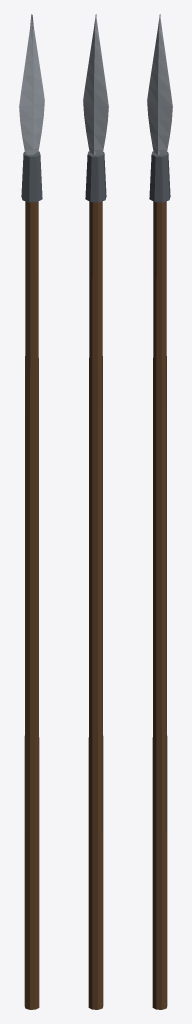
Rendered from g-spear.glb.
The picture shows the model from 3 angles, left to right: view 1: azimuth 30°, elevation 25°; view 2: azimuth 150°, elevation 25°; view 3: azimuth 330°, elevation 25°; orthographic projection.
Visible parts, largest first — view 1: g-spear; view 2: g-spear; view 3: g-spear.
Boxes of the visible parts, x1,y1,x2,y2 form: g-spear: (19, 14, 44, 1009); g-spear: (83, 14, 108, 1009); g-spear: (147, 14, 172, 1009).
Size of the model in its own units: 0.0544 by 2 by 0.04.
